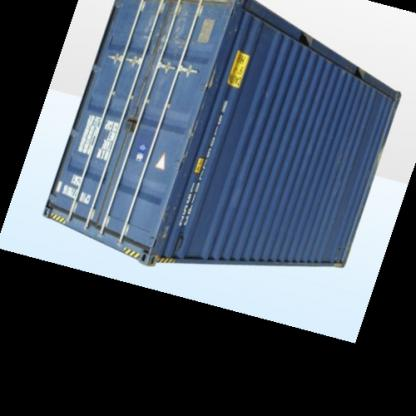Damage: (154, 0, 198, 60), (170, 122, 207, 167), (154, 198, 187, 247), (202, 60, 223, 100), (127, 116, 141, 145)
